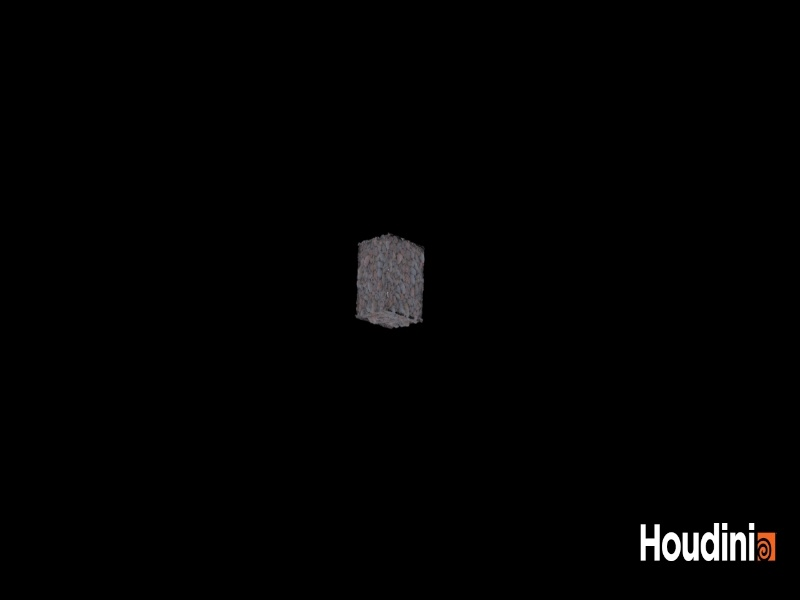waste: (349, 223, 436, 344)
